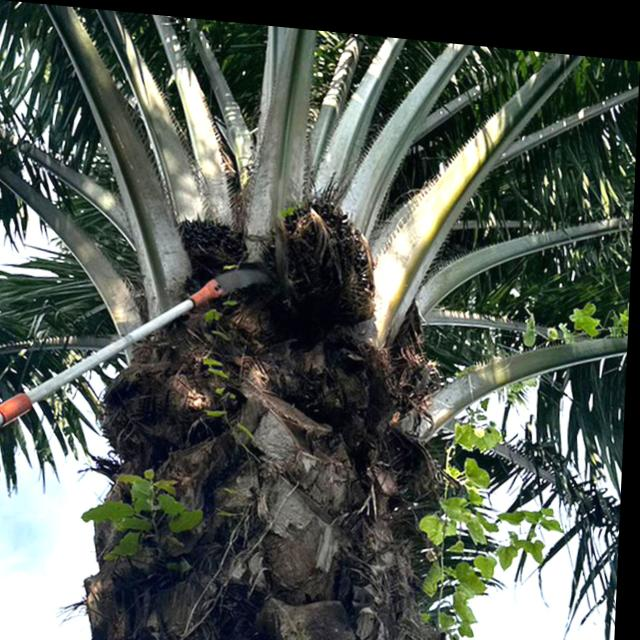unripe: (262, 177, 392, 336)
